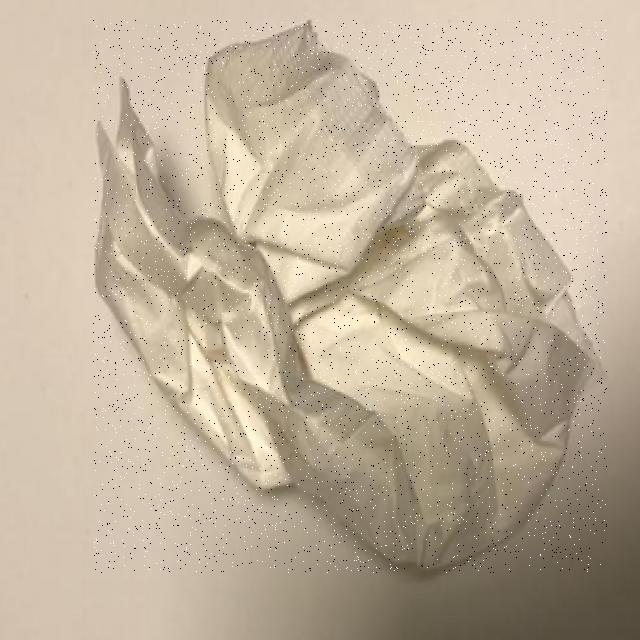paper: (93, 21, 607, 573)
